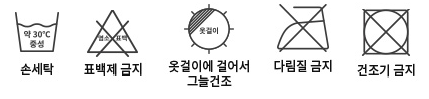KR_hand_wash_30_neutral: (12, 10, 61, 53)
KR_hang_dry_in_shade: (183, 4, 237, 56)
KR_no_chlorine_bleach: (87, 8, 140, 59)
KR_no_iron: (271, 2, 333, 55)
KR_no_tumble_dry: (358, 4, 414, 59)
